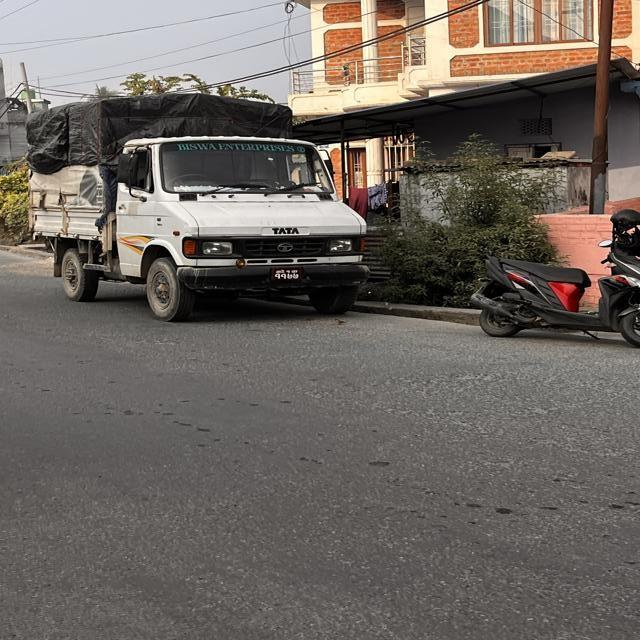license_plate: (454, 208, 640, 374)
